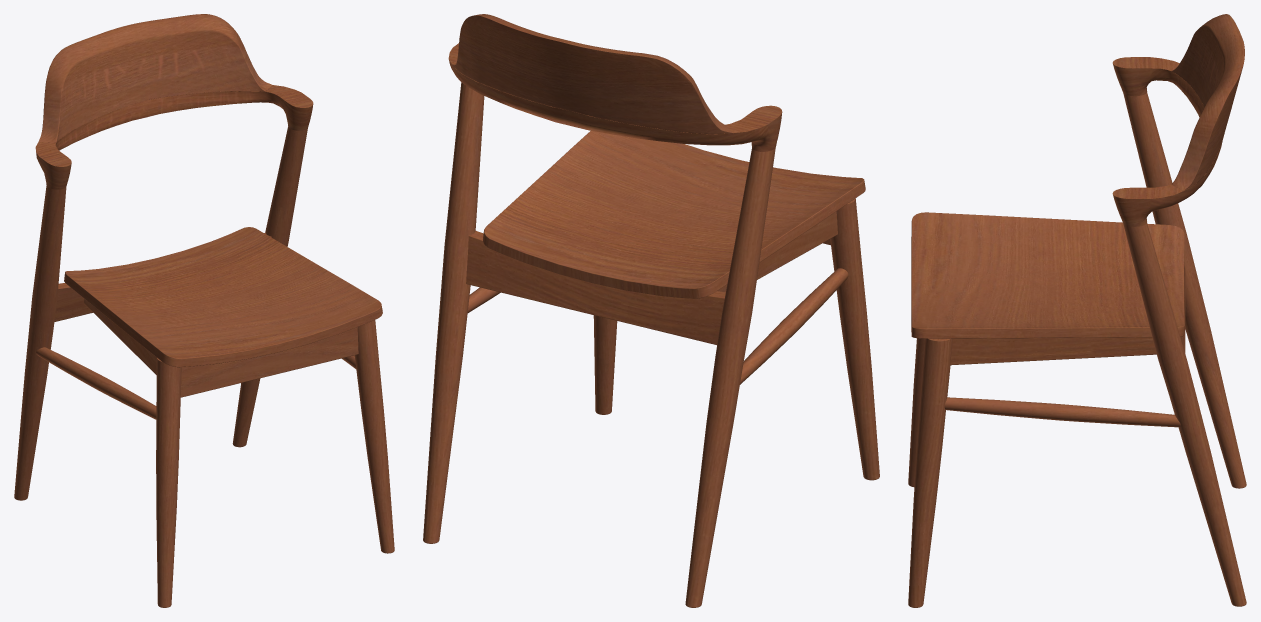
File: dining-chair.glb
3 renders of one model, left to right at view 1: azimuth 30°, elevation 25°; view 2: azimuth 150°, elevation 25°; view 3: azimuth 270°, elevation 25°, orthographic. The views are drawn at different scales.
Visible parts, largest first — view 1: RootNode; view 2: RootNode; view 3: RootNode.
Part boxes in pixels (x1,y1,x2,y2): RootNode: (14, 14, 394, 607); RootNode: (423, 14, 879, 607); RootNode: (908, 14, 1246, 607).
Size of the model in its own units: 0.4956 by 0.8008 by 0.4993.
1 material, 1 textured.
